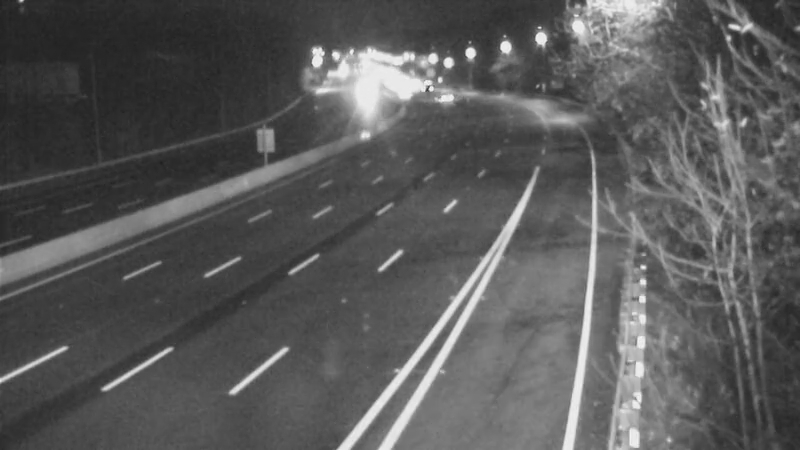vehicle: (379, 68, 429, 118), (424, 72, 474, 122)
